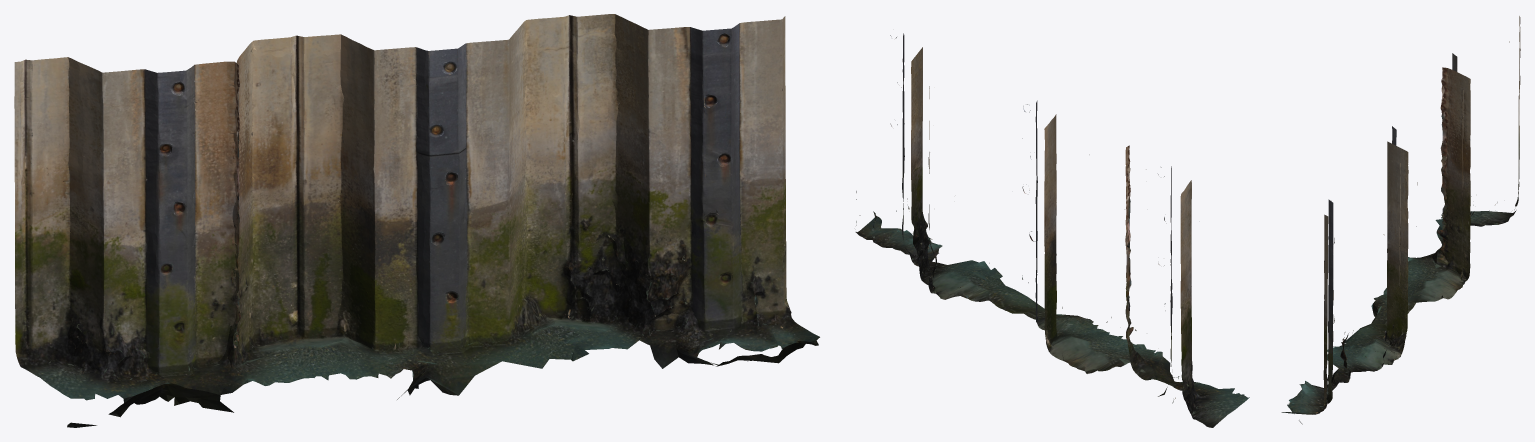
The picture shows the model from 3 angles, left to right: view 1: azimuth 30°, elevation 25°; view 2: azimuth 150°, elevation 25°; view 3: azimuth 270°, elevation 25°; orthographic projection. The views are drawn at different scales.
Size of the model in its own units: 4.18 by 2.11 by 2.11.
Materials: 2 (2 with a texture image).
